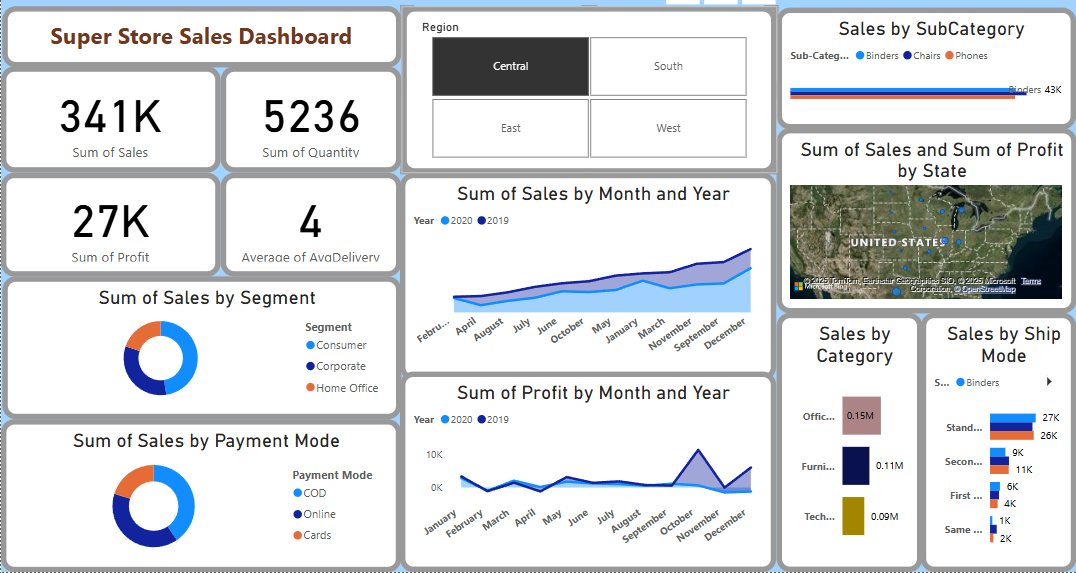

This screenshot's page, from the dashboard's own definition file:
{"tool":"powerbi","page":{"name":"Page 1","canvas":[1280,720],"ordinal":0},"visuals":[{"type":"clusteredBarChart","title":"Sales by Category","fields":{"Category":["SuperStore_Sales_Dataset.Category"],"Y":["Sum(SuperStore_Sales_Dataset.Sales)"]},"box":[923,412,173.7,308.6],"z":0},{"type":"clusteredBarChart","title":"Sales by SubCategory","fields":{"Y":["Sum(SuperStore_Sales_Dataset.Sales)"],"Series":["SuperStore_Sales_Dataset.Sub-Category"]},"box":[923,45.9,357.4,145],"z":1000},{"type":"clusteredBarChart","title":"Sales by Ship Mode","fields":{"Y":["Sum(SuperStore_Sales_Dataset.Sales)"],"Series":["SuperStore_Sales_Dataset.Sub-Category"],"Category":["SuperStore_Sales_Dataset.Ship Mode"]},"box":[1095.2,412,185.2,308.6],"z":2000},{"type":"stackedAreaChart","fields":{"Y":["Sum(SuperStore_Sales_Dataset.Sales)"],"Series":["SuperStore_Sales_Dataset.Order Date.Variation.Date Hierarchy.Year"],"Category":["SuperStore_Sales_Dataset.Order Date.Variation.Date Hierarchy.Month","SuperStore_Sales_Dataset.Order Date.Variation.Date Hierarchy.Day"]},"box":[475.1,245.5,447.9,246.9],"z":3000},{"type":"stackedAreaChart","fields":{"Series":["SuperStore_Sales_Dataset.Order Date.Variation.Date Hierarchy.Year"],"Category":["SuperStore_Sales_Dataset.Order Date.Variation.Date Hierarchy.Month","SuperStore_Sales_Dataset.Order Date.Variation.Date Hierarchy.Day"],"Y":["Sum(SuperStore_Sales_Dataset.Profit)"]},"box":[475.1,482.3,447.9,238.3],"z":4000},{"type":"map","fields":{"Category":["SuperStore_Sales_Dataset.State"],"Size":["Sum(SuperStore_Sales_Dataset.Sales)"]},"box":[923,190.9,357.4,221.1],"z":5000},{"type":"donutChart","fields":{"Category":["SuperStore_Sales_Dataset.Segment"],"Y":["Sum(SuperStore_Sales_Dataset.Sales)"]},"box":[1.7,368.3,475,170],"z":6000},{"type":"donutChart","fields":{"Category":["SuperStore_Sales_Dataset.Payment Mode"],"Y":["Sum(SuperStore_Sales_Dataset.Sales)"]},"box":[0,538.3,476.6,182.3],"z":7000},{"type":"slicer","fields":{"Values":["SuperStore_Sales_Dataset.Region"]},"box":[476.6,45.9,446.4,199.5],"z":8000},{"type":"textbox","box":[1.4,45.9,475.1,73.2],"z":9000},{"type":"card","title":"Sales","fields":{"Values":["Sum(SuperStore_Sales_Dataset.Sales)"]},"box":[0,119.1,261.2,126.3],"z":10000},{"type":"card","title":"Quantity","fields":{"Values":["Sum(SuperStore_Sales_Dataset.Quantity)"]},"box":[261.2,119.1,215.3,126.3],"z":11000},{"type":"actionButton","box":[0,0,100,40],"z":12000},{"type":"card","title":"Profit","fields":{"Values":["Sum(SuperStore_Sales_Dataset.Profit)"]},"box":[0,245,261.7,123.3],"z":13000},{"type":"card","title":"Average","fields":{"Values":["Avg(SuperStore_Sales_Dataset.AvgDelivery)"]},"box":[261.7,245,215,123.3],"z":14000}]}

Visuals, with their boxes on the page's 1280x720 design canvas (x1, y1, x2, y2). These are canvas units, not pixel positions in the 1076x573 screenshot, which may show the page scaled, cropped or inside an application window:
"Sales by Category" clusteredBarChart: <bbox>923, 412, 1097, 721</bbox>
"Sales by SubCategory" clusteredBarChart: <bbox>923, 46, 1280, 191</bbox>
"Sales by Ship Mode" clusteredBarChart: <bbox>1095, 412, 1280, 721</bbox>
stackedAreaChart - Sum(SuperStore_Sales_Dataset.Sales) x SuperStore_Sales_Dataset.Order Date.Variation.Date Hierarchy.Year: <bbox>475, 246, 923, 492</bbox>
stackedAreaChart - SuperStore_Sales_Dataset.Order Date.Variation.Date Hierarchy.Year x SuperStore_Sales_Dataset.Order Date.Variation.Date Hierarchy.Month: <bbox>475, 482, 923, 721</bbox>
map - SuperStore_Sales_Dataset.State x Sum(SuperStore_Sales_Dataset.Sales): <bbox>923, 191, 1280, 412</bbox>
donutChart - SuperStore_Sales_Dataset.Segment x Sum(SuperStore_Sales_Dataset.Sales): <bbox>2, 368, 477, 538</bbox>
donutChart - SuperStore_Sales_Dataset.Payment Mode x Sum(SuperStore_Sales_Dataset.Sales): <bbox>0, 538, 477, 721</bbox>
slicer - SuperStore_Sales_Dataset.Region: <bbox>477, 46, 923, 245</bbox>
textbox: <bbox>1, 46, 476, 119</bbox>
"Sales" card: <bbox>0, 119, 261, 245</bbox>
"Quantity" card: <bbox>261, 119, 476, 245</bbox>
actionButton: <bbox>0, 0, 100, 40</bbox>
"Profit" card: <bbox>0, 245, 262, 368</bbox>
"Average" card: <bbox>262, 245, 477, 368</bbox>
